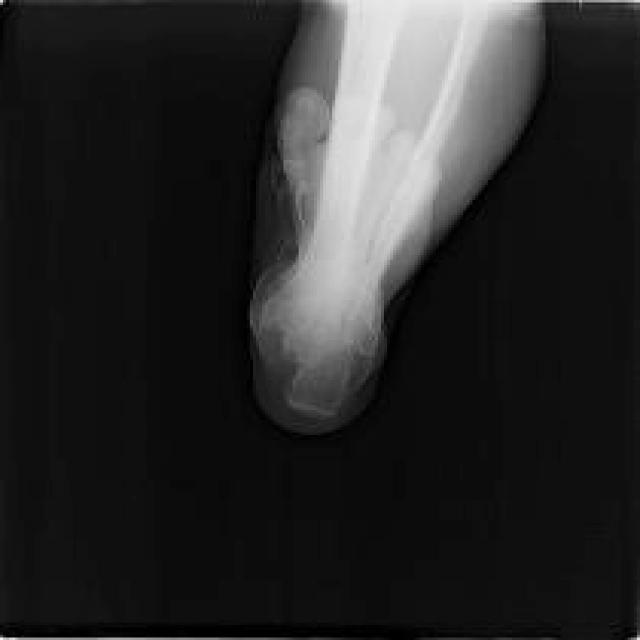normal: (259, 0, 493, 415)
